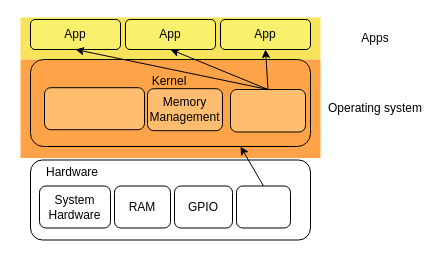
This 447x257 diagram has some shape labels left out. The centre of each missing label's shape, as x and y in pixels:
"CPU" belongs at (x=263, y=206).
"CPU Management" belongs at (x=268, y=110).
"IPC" belongs at (x=94, y=108).
